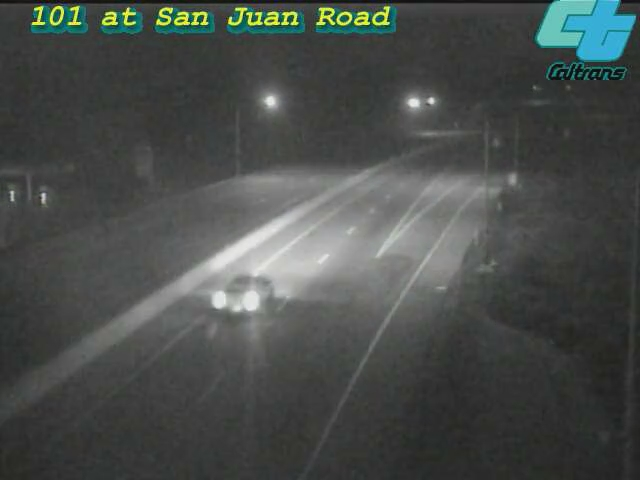vehicle: (202, 254, 282, 334)
